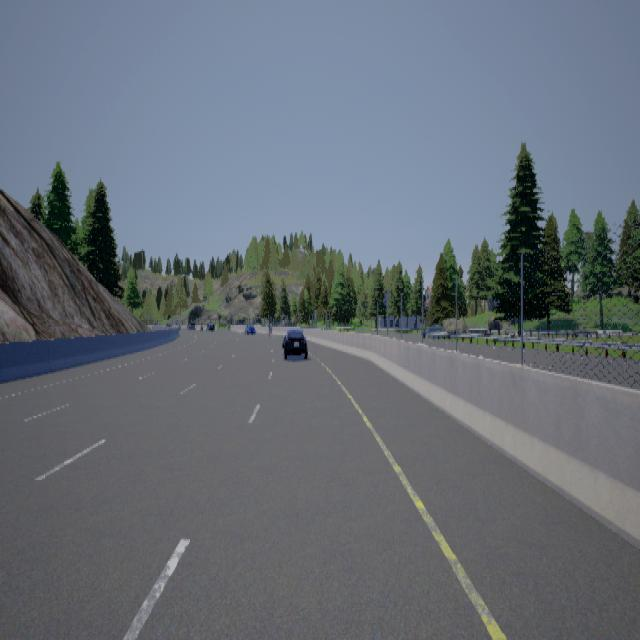bike: (267, 318, 276, 337)
vehicle: (283, 326, 309, 358), (246, 320, 258, 335)
